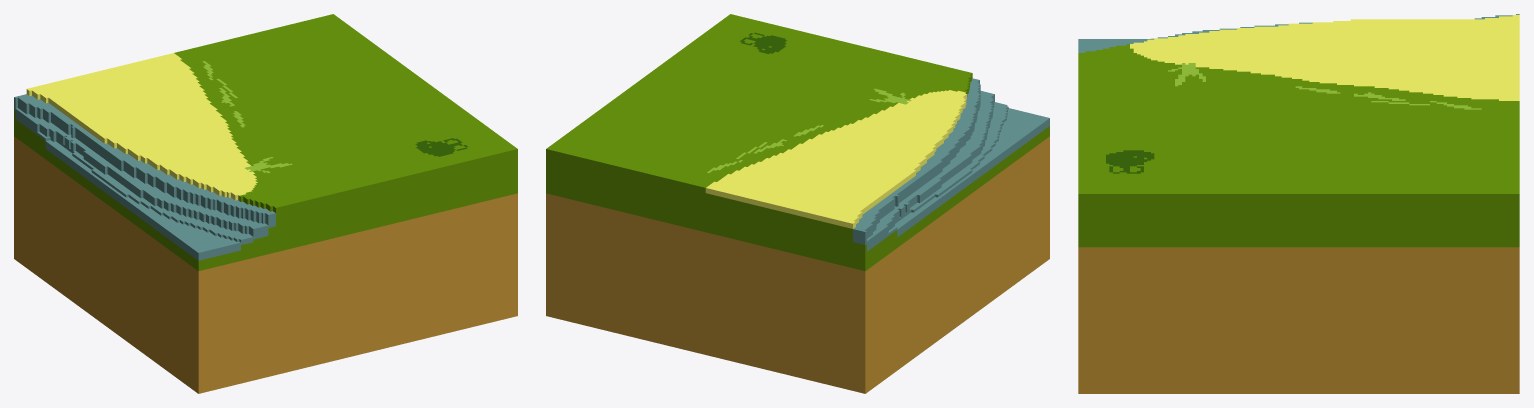
3 views of the same model, side by side, from view 1: azimuth 30°, elevation 25°; view 2: azimuth 150°, elevation 25°; view 3: azimuth 270°, elevation 25° (orthographic). The views are drawn at different scales.
Parts seen in each view (by area): view 1: 14M; view 2: 14M; view 3: 14M.
Boxes of the visible parts, <box> form: 14M: <box>14,14,517,393</box>; 14M: <box>546,14,1049,393</box>; 14M: <box>1078,14,1519,393</box>.
Bounding box in the file's own units: 12.8 × 6.4 × 12.8.
1 material, 1 textured.
